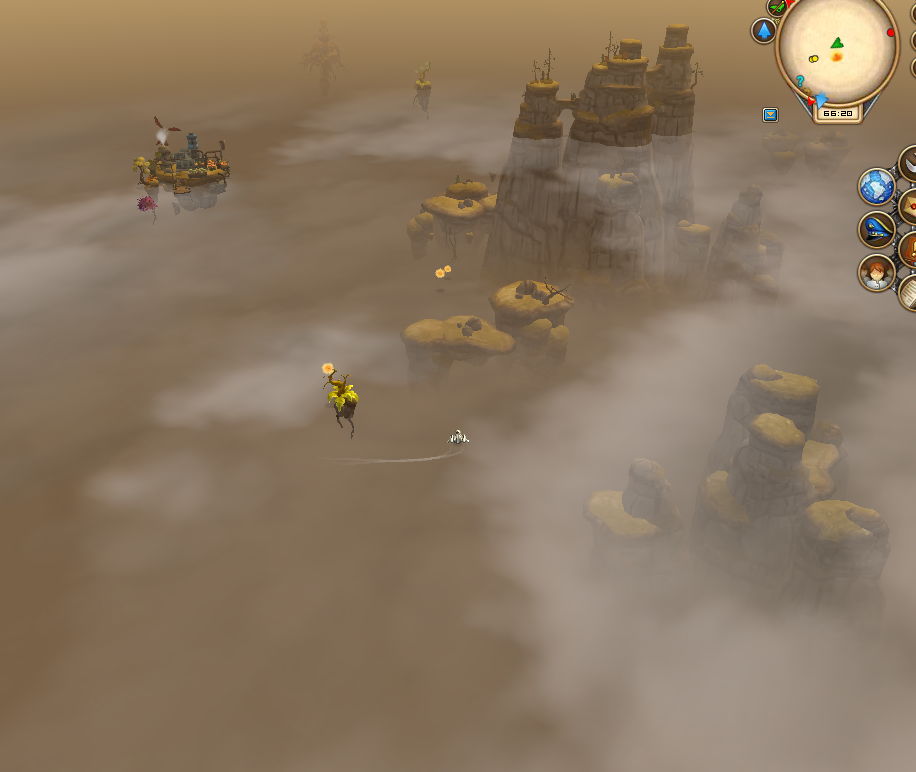dandelion-full: (316, 358, 366, 441), (409, 55, 438, 112)
fluff: (433, 265, 447, 281), (442, 260, 455, 275)
